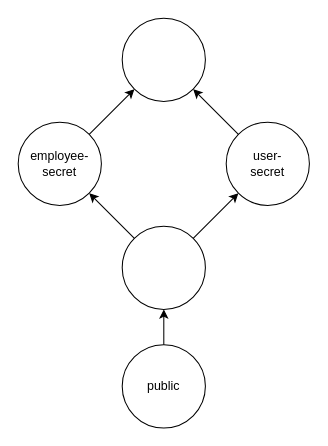
Image size: 328x446. Some labels were removed from this diagram. The centre of each missing label's shape, as x and y in pixels:
private: [163,267]
secret: [163,59]
